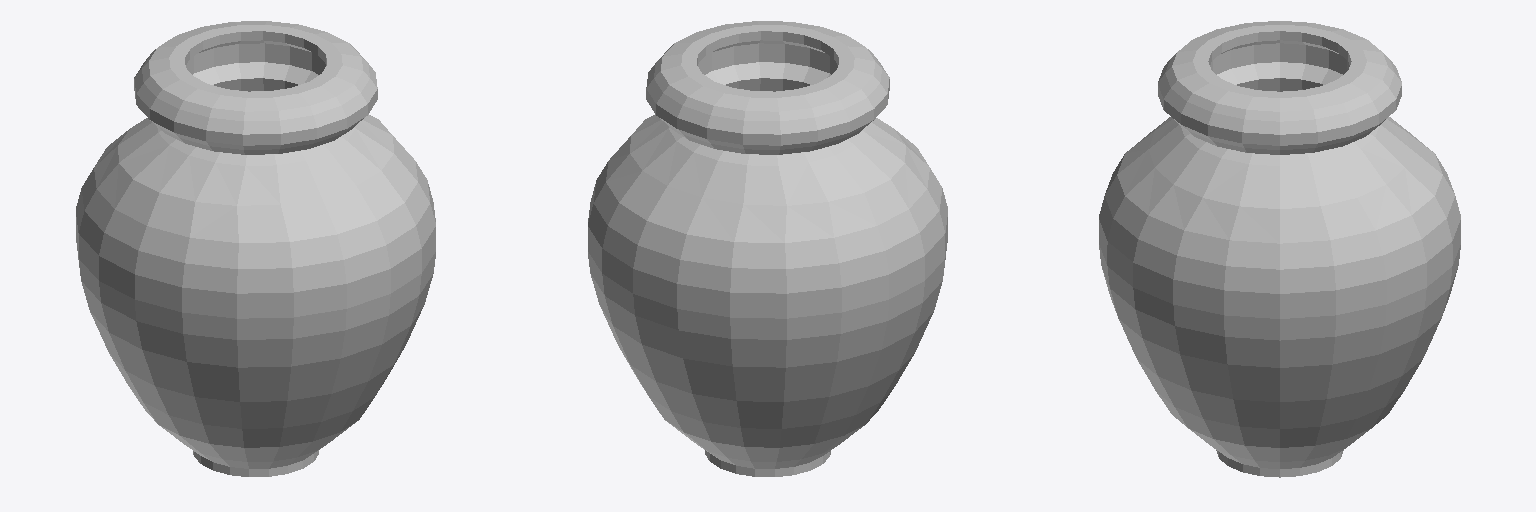
Rendered from Jarron4.obj.
3 renders of one model, left to right at view 1: azimuth 30°, elevation 25°; view 2: azimuth 150°, elevation 25°; view 3: azimuth 270°, elevation 25°, orthographic.
Visible parts, largest first — view 1: Jarron_pCylinder4; view 2: Jarron_pCylinder4; view 3: Jarron_pCylinder4.
Boxes of the visible parts, x1,y1,x2,y2 form: Jarron_pCylinder4: [76, 21, 435, 476]; Jarron_pCylinder4: [588, 21, 947, 476]; Jarron_pCylinder4: [1099, 21, 1460, 477].
Bounding box in the file's own units: 0.7378 × 0.8733 × 0.7378.